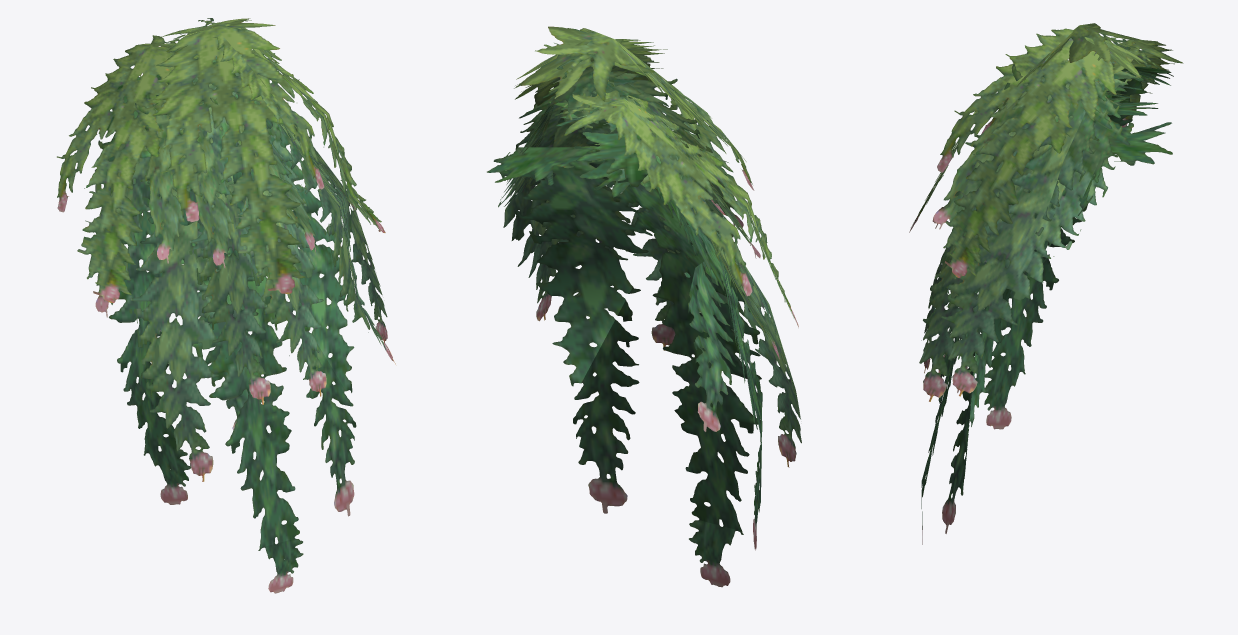
Rendered from plant_lobbynew02_zhiwu_teng2.FBX.
3 renders of one model, left to right at view 1: azimuth 30°, elevation 25°; view 2: azimuth 150°, elevation 25°; view 3: azimuth 270°, elevation 25°, orthographic. The views are drawn at different scales.
Parts seen in each view (by area): view 1: plant_lobbynew02_zhiwu_teng2; view 2: plant_lobbynew02_zhiwu_teng2; view 3: plant_lobbynew02_zhiwu_teng2.
Boxes of the visible parts, left/top/right/bottom form: plant_lobbynew02_zhiwu_teng2: left=57, top=18, right=395, bottom=593; plant_lobbynew02_zhiwu_teng2: left=487, top=26, right=801, bottom=587; plant_lobbynew02_zhiwu_teng2: left=909, top=23, right=1183, bottom=544.
Size of the model in its own units: 128 by 132 by 213.
